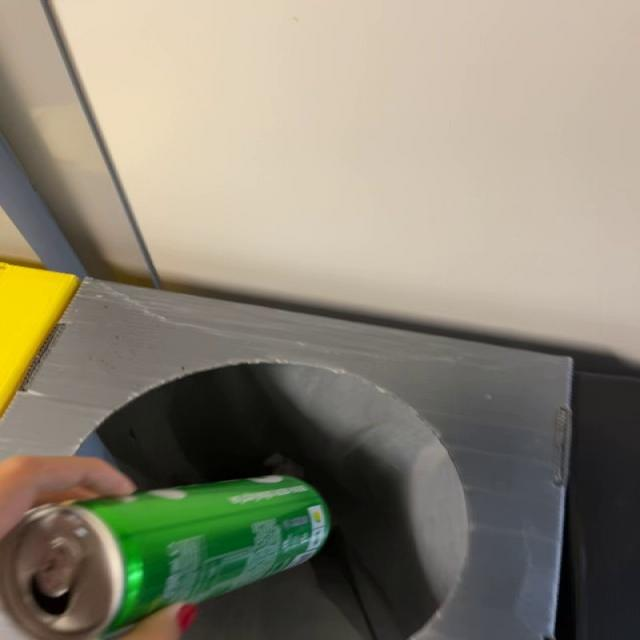bin: (3, 280, 572, 640)
metal: (1, 477, 331, 640)
